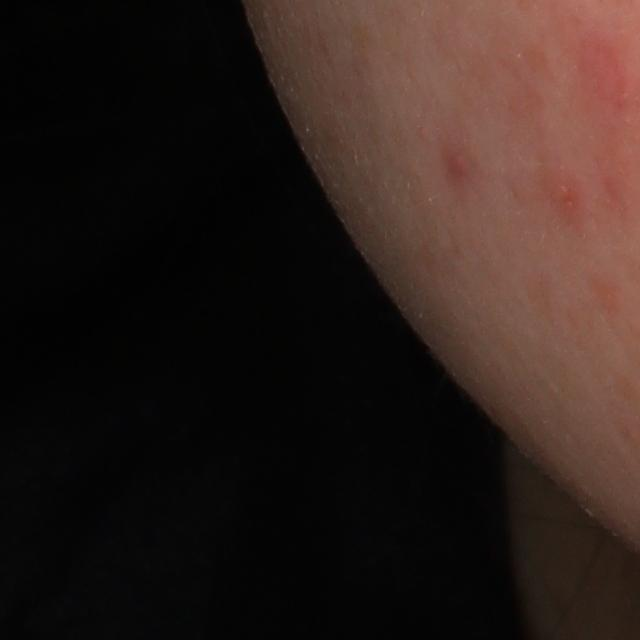papule: (554, 175, 589, 215), (444, 153, 470, 179)
